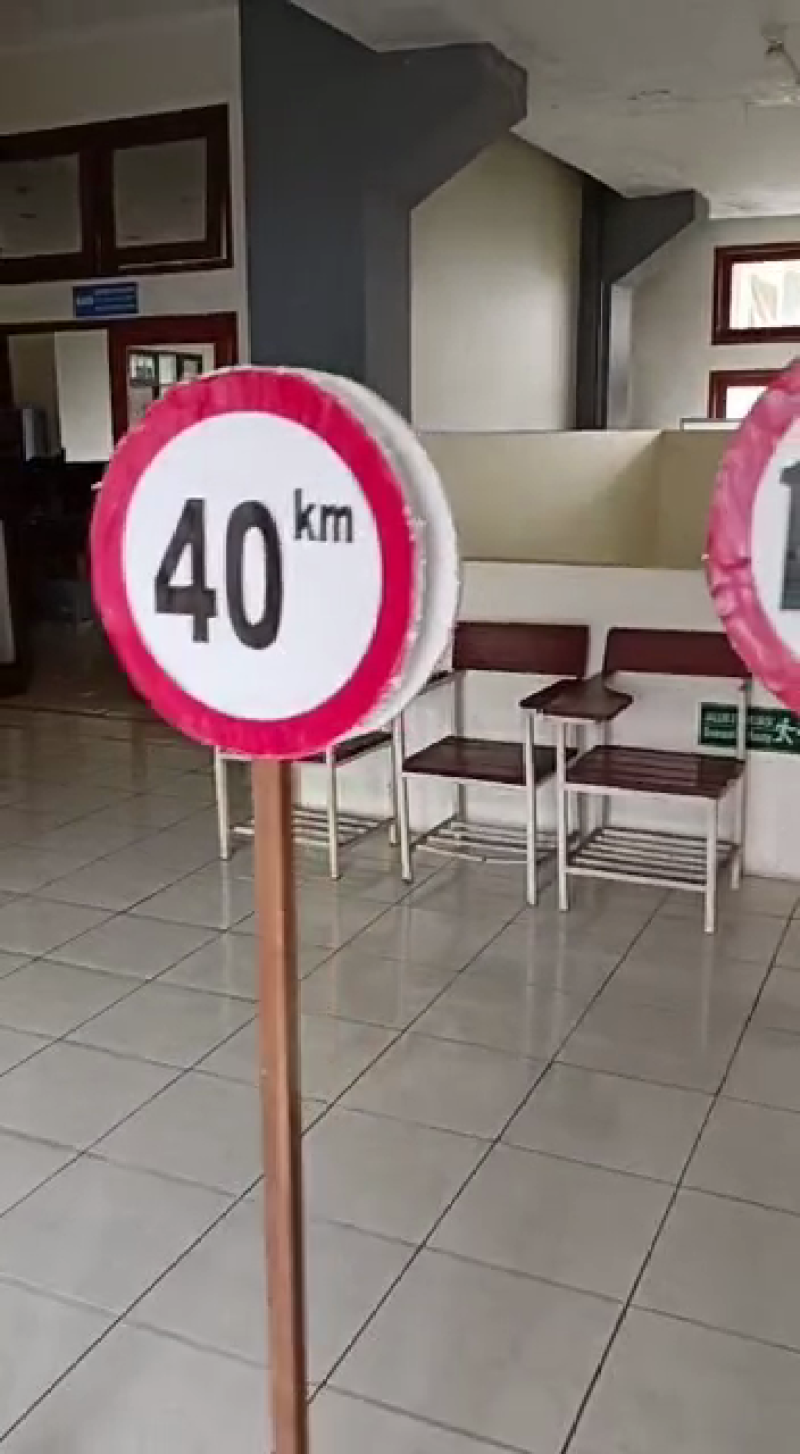batas maksimal 40kmperjam: (76, 364, 440, 773)
